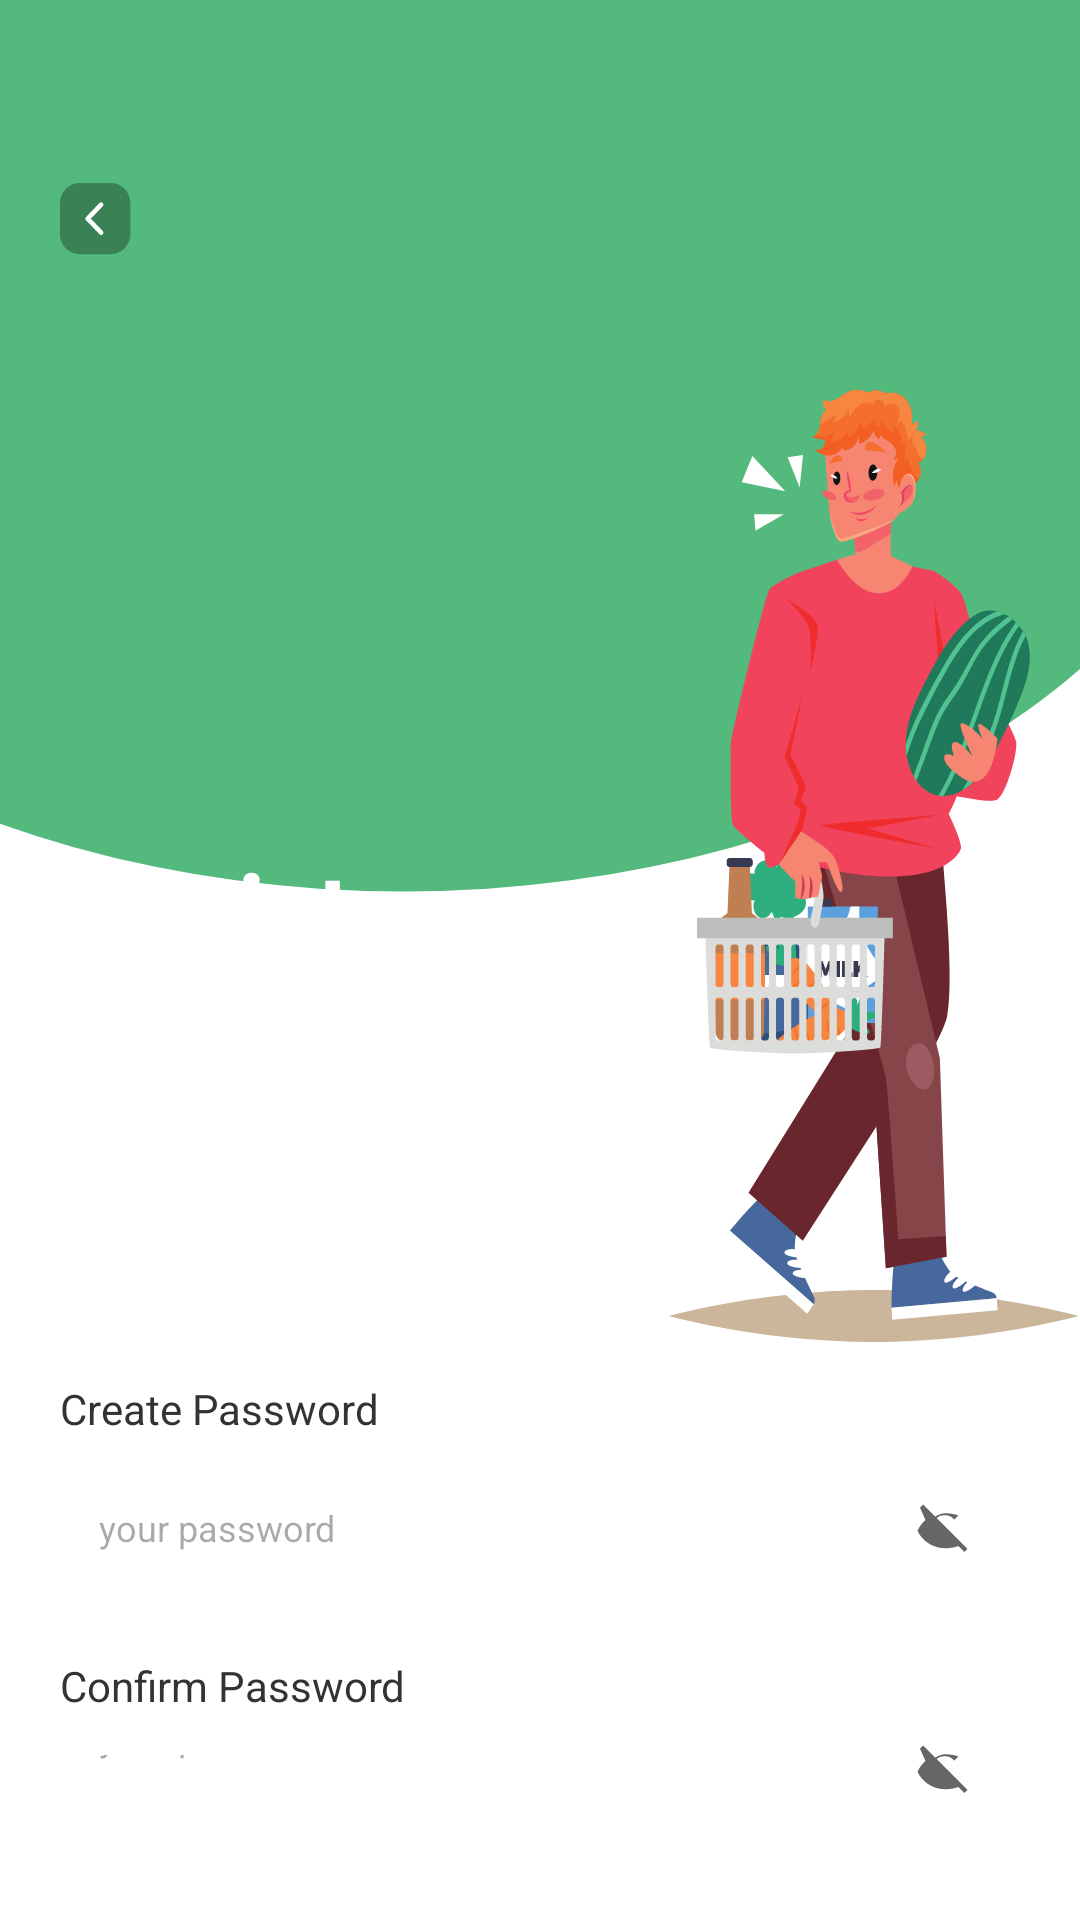

Screen size 1080x1920. Icon name, then its box in pixels as [x1, y1, x2, y2]:
eye closed: [917, 1504, 968, 1552], [917, 1745, 968, 1793]
